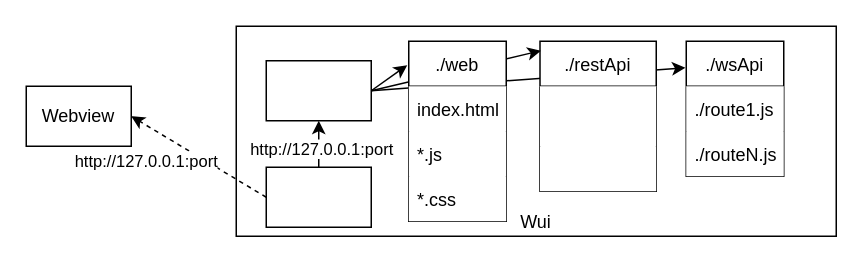
Image size: 863x263. Some labels were removed from this diagram. The shapes that lost their labels are listed below. From the top down, each one's centre as x and y in pixels, then its label:
[318,90]: Local Server
[597,116]: ./api1 method.js
[597,168]: ./apiN
[318,196]: Fork Webview
